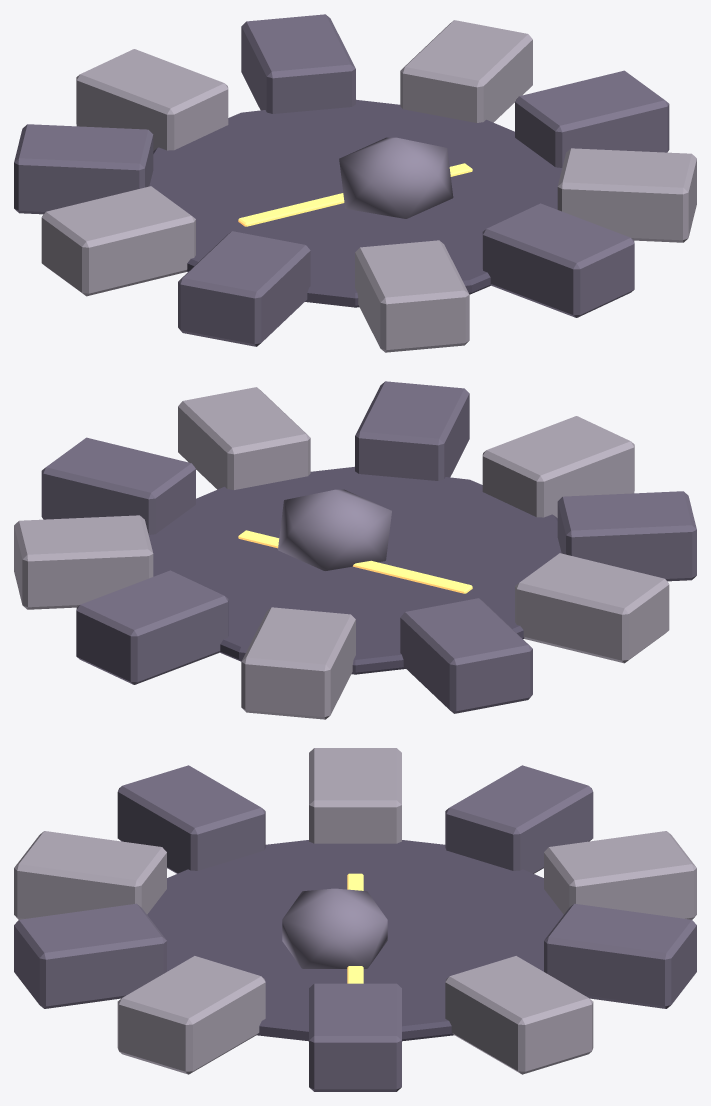
The model's file is ember_meteor_crater.glb.
3 views of the same model, one above another, from view 1: azimuth 30°, elevation 25°; view 2: azimuth 150°, elevation 25°; view 3: azimuth 270°, elevation 25° (orthographic).
Visible parts, largest first — view 1: ember_meteor_crater.001; view 2: ember_meteor_crater.001; view 3: ember_meteor_crater.001.
Boxes of the visible parts, x1=… form: ember_meteor_crater.001: x1=14, y1=14, x2=696, y2=352; ember_meteor_crater.001: x1=14, y1=381, x2=696, y2=719; ember_meteor_crater.001: x1=14, y1=748, x2=696, y2=1091.
Size of the model in its own units: 6.7 by 0.9 by 6.62.
